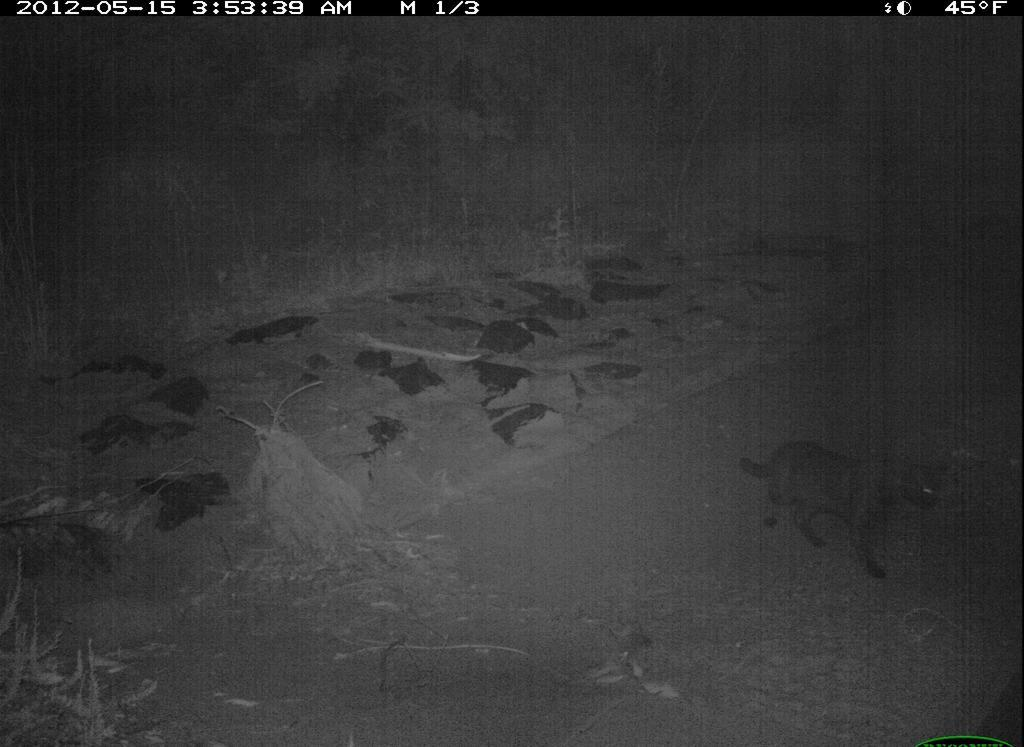cat: (726, 420, 954, 589)
